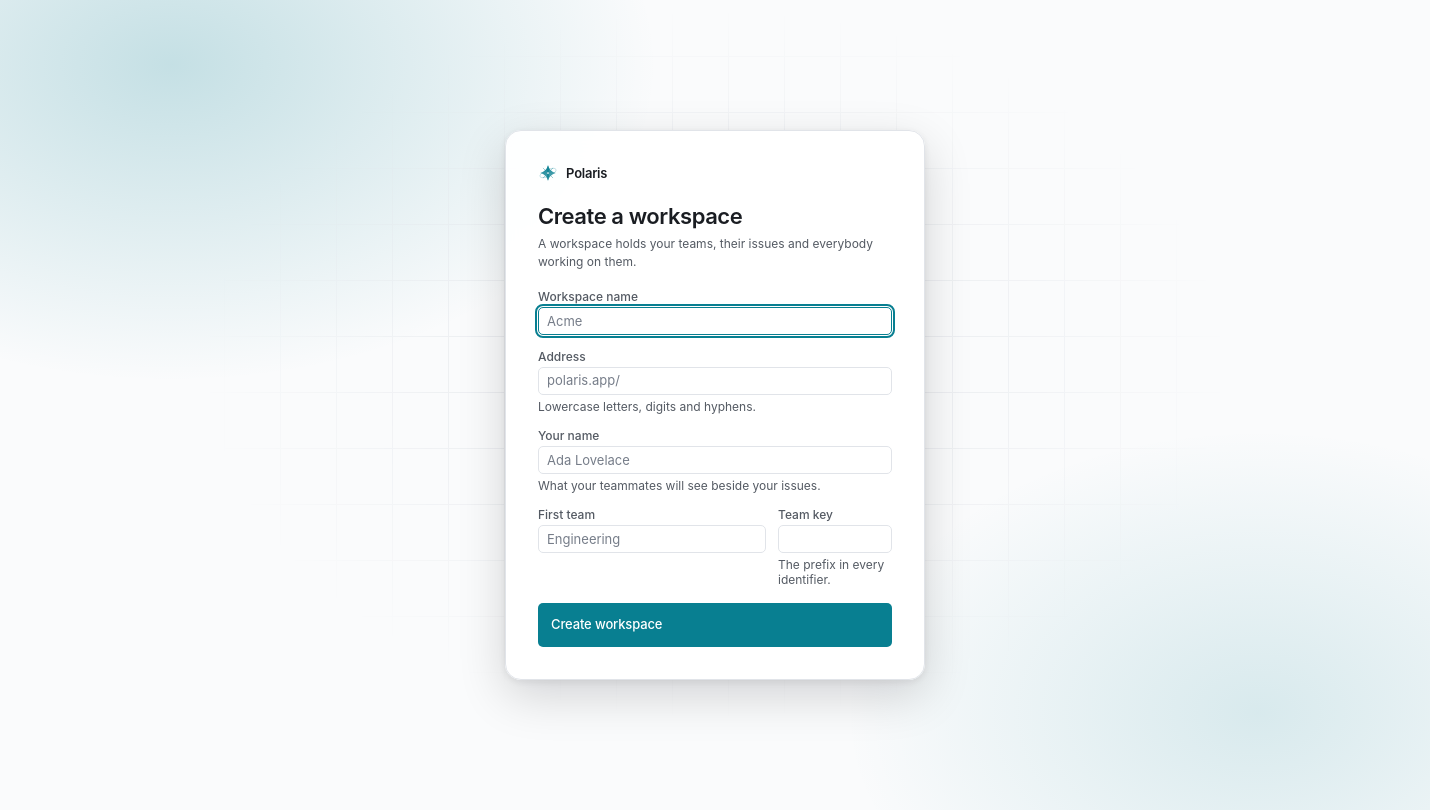
Test case: CreateWorkspace › keeps the submit reachable and names the field it refused
The width and height of the screenshot is (1440, 810).
What coordinates should you click on to do the following:
click the button "Create workspace"
I would click on:
 (607, 624)
Its box is [538,603,892,647].
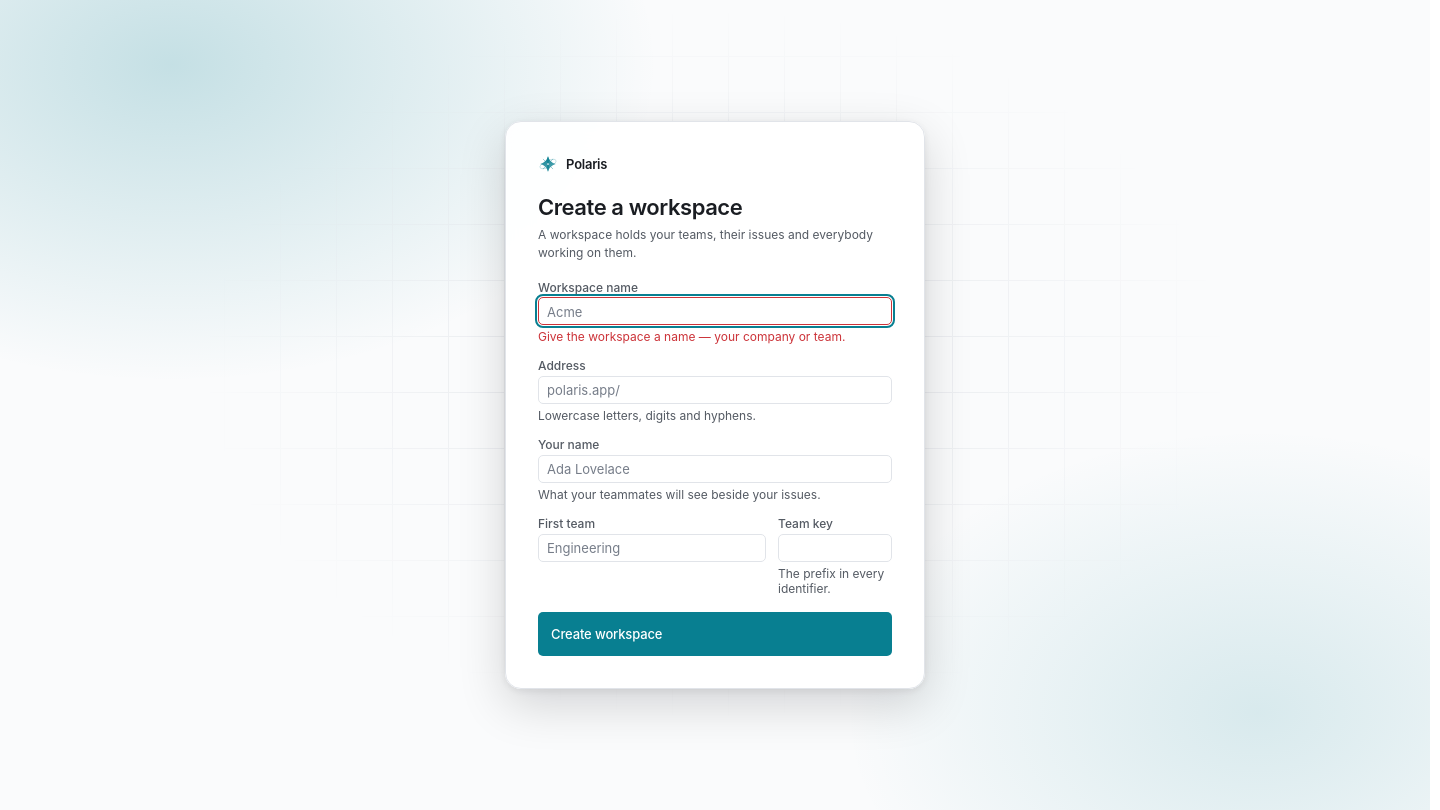
Check: the message shows "name", box [538,329,845,344]
